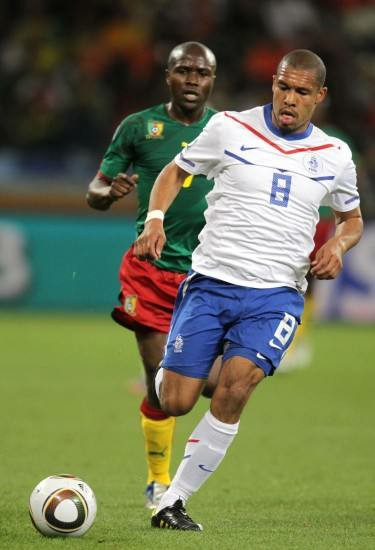football: (29, 472, 98, 538)
